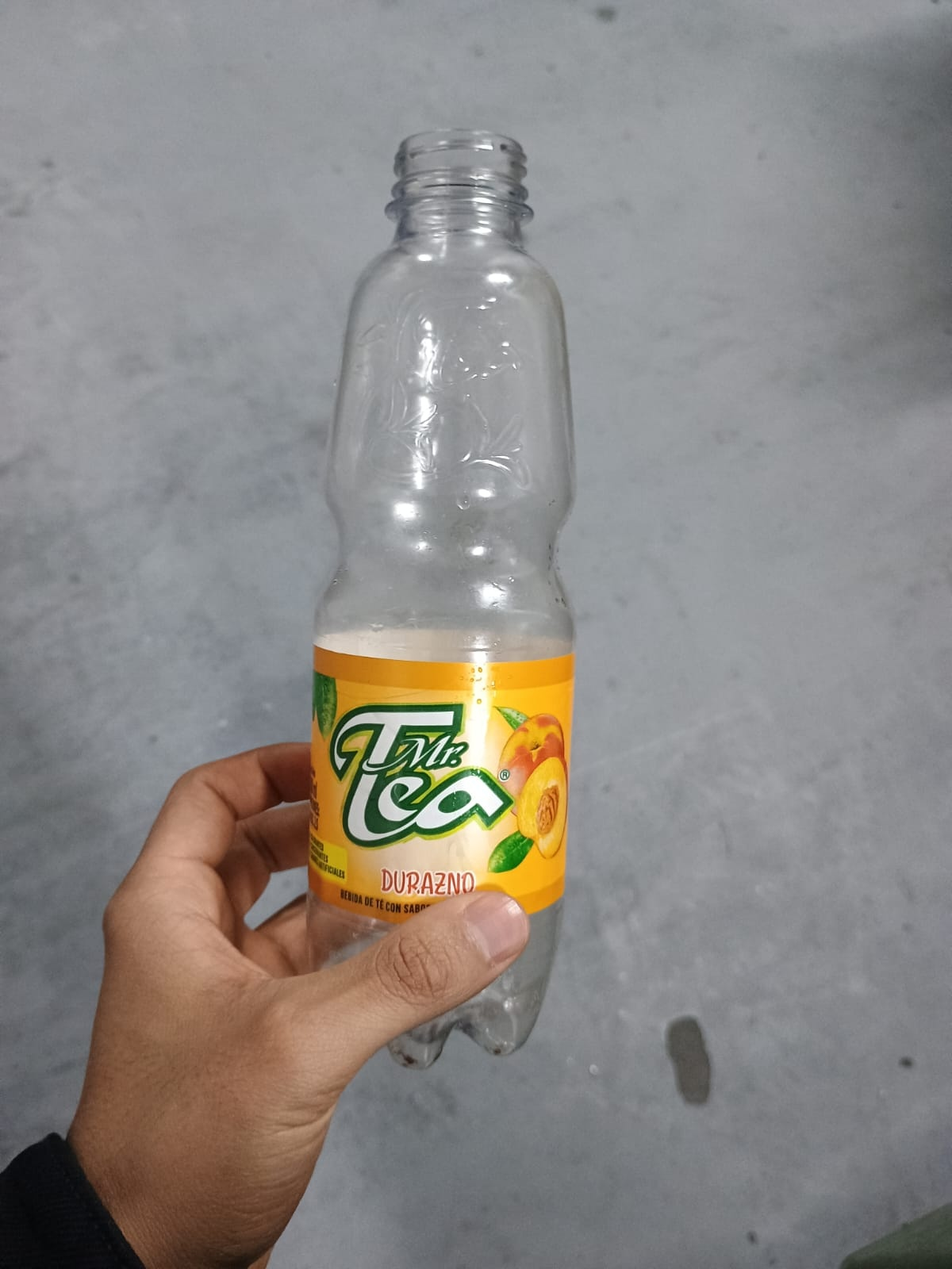Plastico: (306, 122, 575, 1064)
